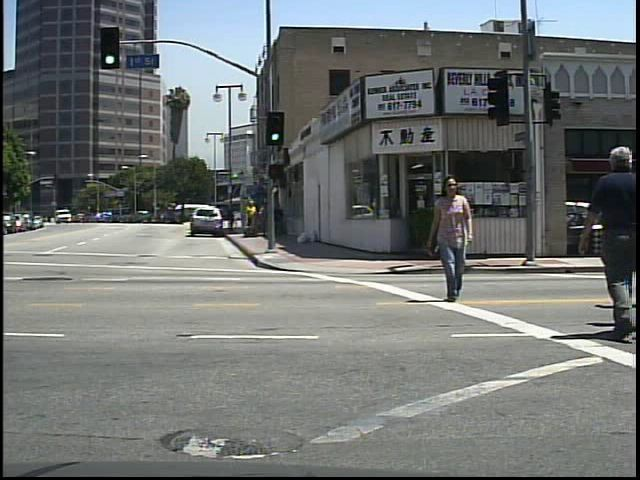person: (578, 134, 638, 349), (424, 175, 477, 306)
